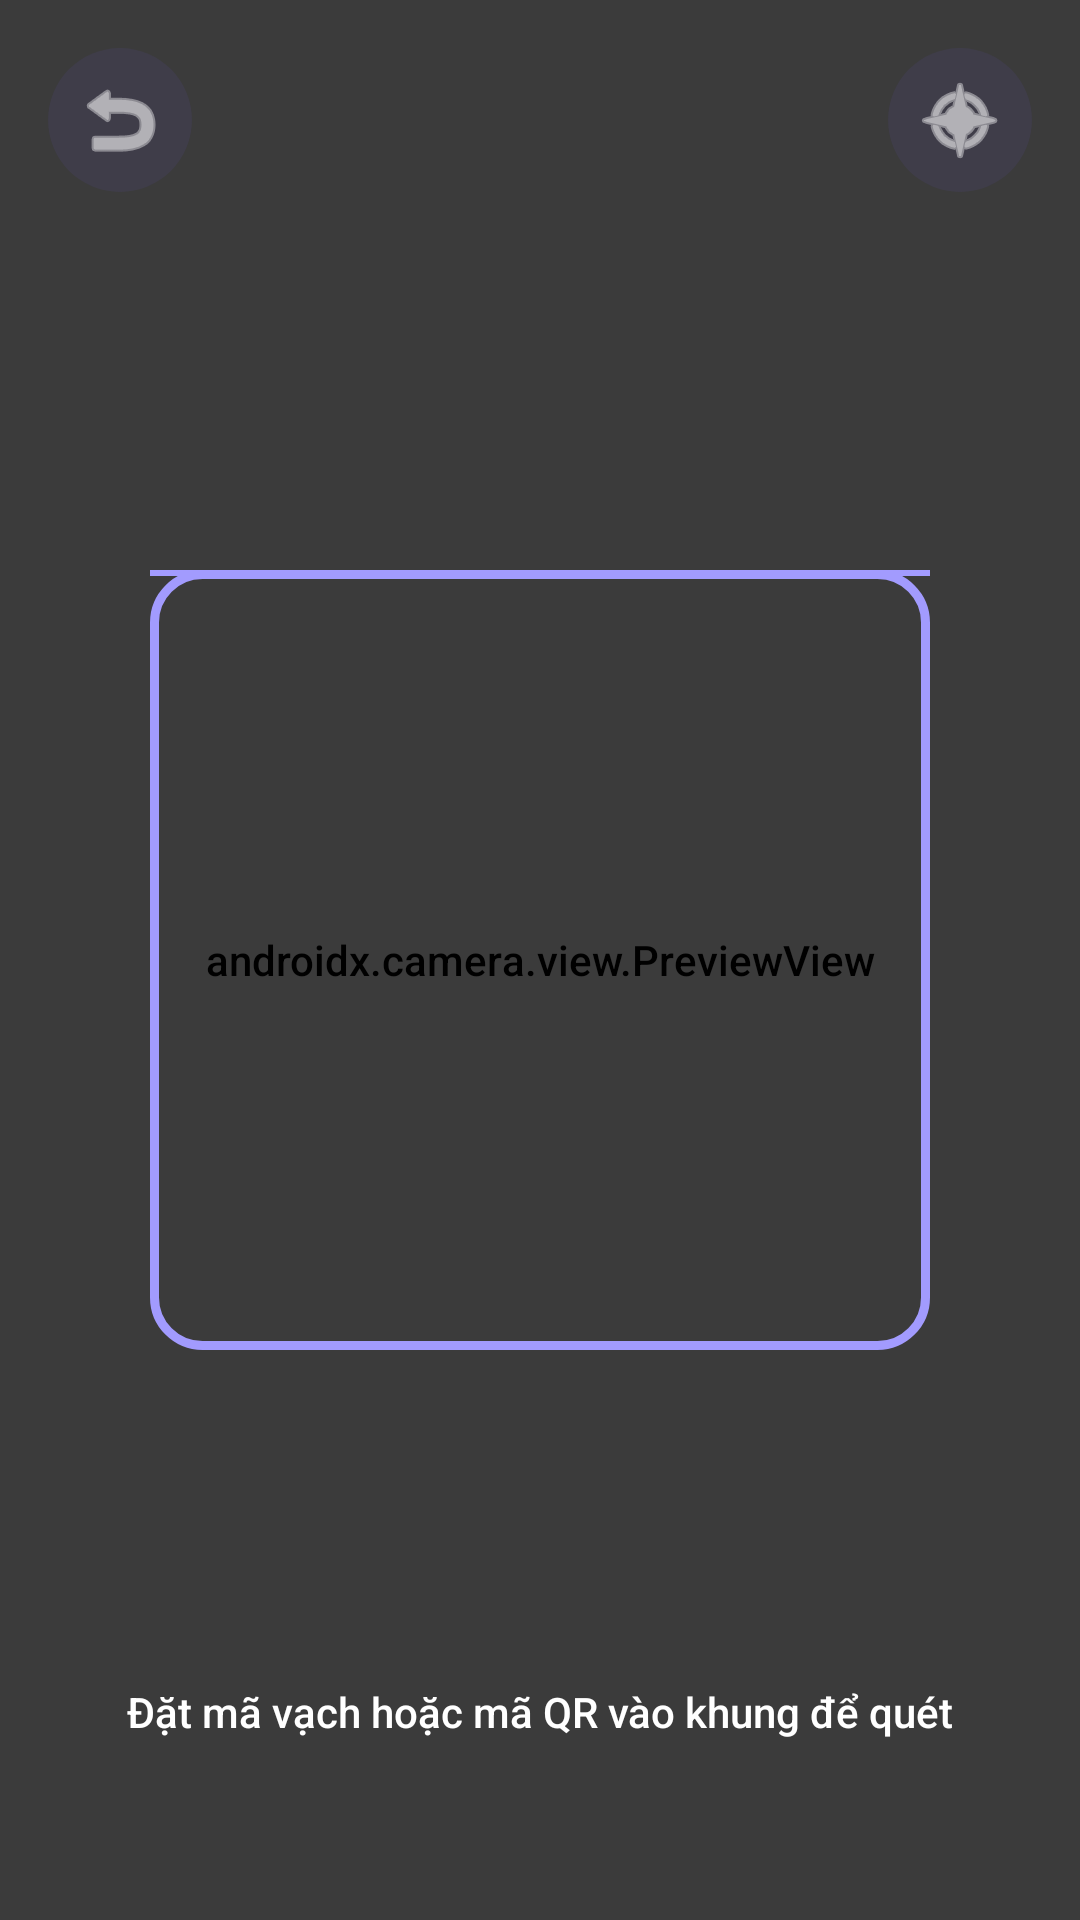

Point at icon controls on the screen. Image size 1080*1920, points as point (x, y).
Quay lại: point (121, 120)
